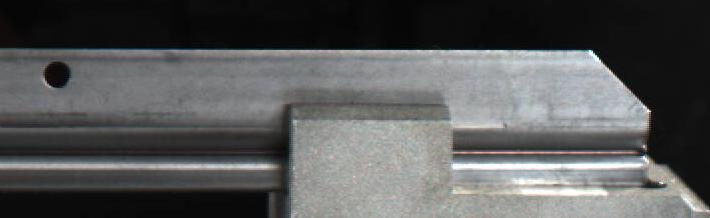cut: (469, 43, 663, 191)
holes: (42, 59, 73, 87)
